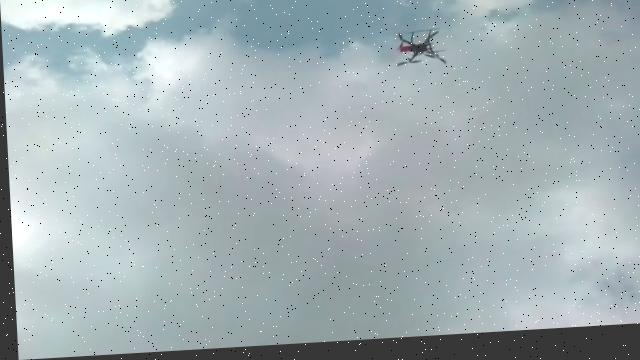drone: (390, 31, 452, 80)
